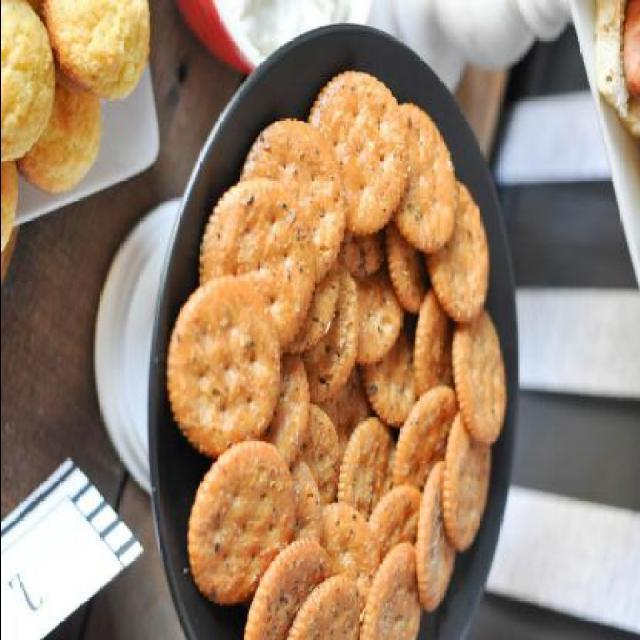Ritz cracker packaged: (163, 68, 509, 640)
